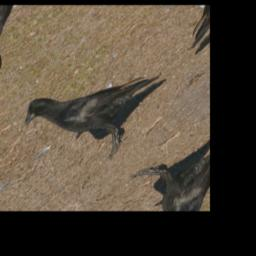Crow: (16, 32, 184, 177)
